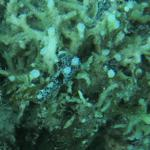dead: (3, 6, 145, 142)
